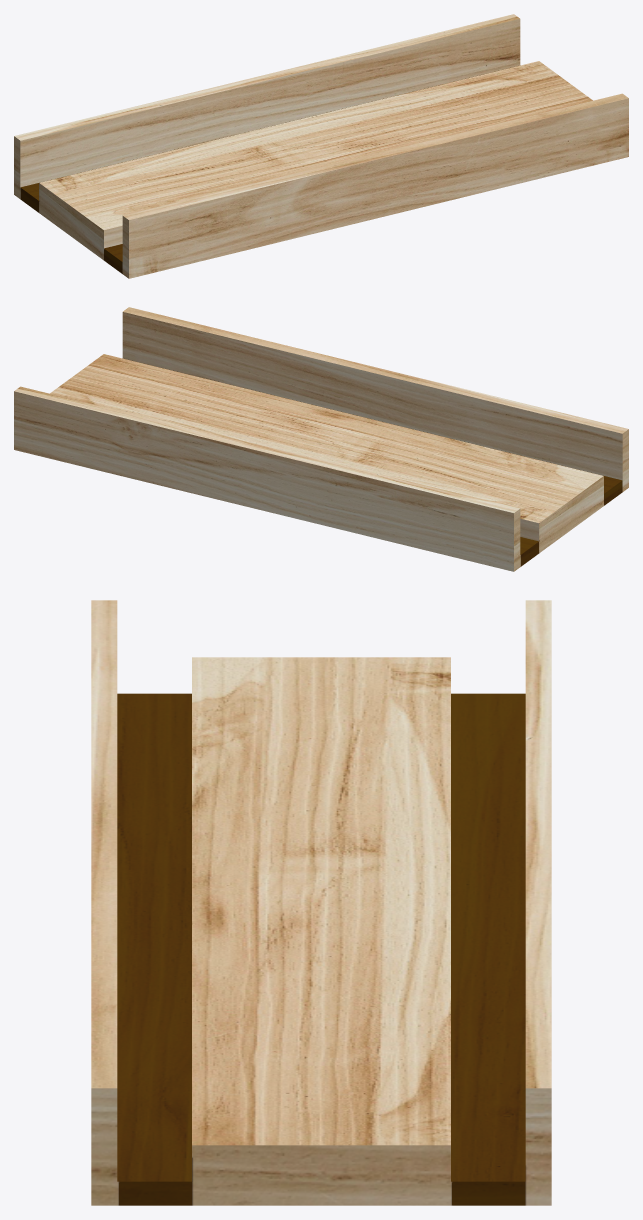
The model's file is PlaneColorBowling.fbx.
3 renders of one model, top to bottom at view 1: azimuth 30°, elevation 25°; view 2: azimuth 150°, elevation 25°; view 3: azimuth 270°, elevation 25°, orthographic. The views are drawn at different scales.
Visible parts, largest first — view 1: pCube7; view 2: pCube7; view 3: pCube7.
Part boxes in pixels (bbox=[...]): pCube7: bbox=[14, 14, 628, 278]; pCube7: bbox=[14, 307, 628, 571]; pCube7: bbox=[91, 600, 551, 1205].
Size of the model in its own units: 23.3 by 2.61 by 9.28.
